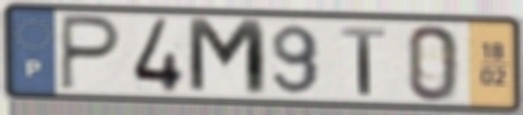0: (404, 22, 462, 104)
4: (130, 14, 187, 96)
9: (268, 22, 323, 97)
M: (183, 15, 272, 100)
P: (57, 11, 125, 94)
T: (339, 24, 388, 98)
